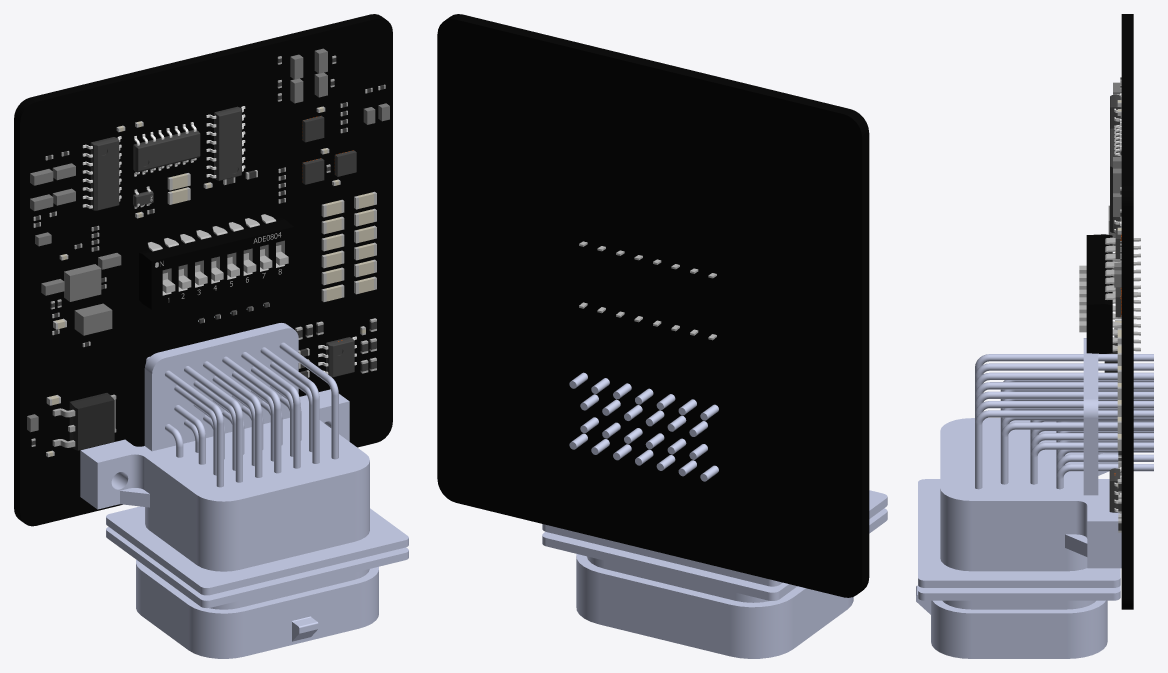
Rendered from BSPD_glb.glb.
3 renders of one model, left to right at view 1: azimuth 30°, elevation 25°; view 2: azimuth 150°, elevation 25°; view 3: azimuth 270°, elevation 25°, orthographic. The views are drawn at different scales.
Parts seen in each view (by area): view 1: Board-Part-1-1-1, J1-1, Switch_TE_Connectivity_1825057-7_eec-1, SOIC-16akaD0016AakaM16A-1/M16A_ASM_24_ASM-1/BODY_M16A_17-1 (×3), L78M05ABDT-TR-1-1, 8451759392-1/Extruded-25-1, SOIC-8akaD0008AakaM08A-1/M08A_ASM_82_ASM-1/BODY_M08A_35-1, 8451754352-1/Extruded-14-1; view 2: Board-Part-1-1-1, J1-1, Switch_TE_Connectivity_1825057-7_eec-1; view 3: J1-1, Board-Part-1-1-1, Switch_TE_Connectivity_1825057-7_eec-1, SOIC-8akaD0008AakaM08A-1/M08A_ASM_82_ASM-1/BODY_M08A_35-1.
Part boxes in pixels (bbox=[...]): Board-Part-1-1-1: bbox=[14, 14, 392, 526]; J1-1: bbox=[80, 323, 408, 658]; Switch_TE_Connectivity_1825057-7_eec-1: bbox=[139, 214, 293, 309]; SOIC-16akaD0016AakaM16A-1/M16A_ASM_24_ASM-1/BODY_M16A_17-1 (×3): bbox=[90, 106, 241, 210]; L78M05ABDT-TR-1-1: bbox=[52, 393, 116, 450]; 8451759392-1/Extruded-25-1: bbox=[64, 264, 101, 301]; SOIC-8akaD0008AakaM08A-1/M08A_ASM_82_ASM-1/BODY_M08A_35-1: bbox=[326, 337, 354, 377]; 8451754352-1/Extruded-14-1: bbox=[74, 303, 112, 335]; Board-Part-1-1-1: bbox=[437, 14, 869, 597]; J1-1: bbox=[542, 372, 887, 658]; Switch_TE_Connectivity_1825057-7_eec-1: bbox=[579, 241, 716, 340]; J1-1: bbox=[916, 338, 1153, 658]; Board-Part-1-1-1: bbox=[1121, 14, 1133, 609]; Switch_TE_Connectivity_1825057-7_eec-1: bbox=[1079, 234, 1140, 353]; SOIC-8akaD0008AakaM08A-1/M08A_ASM_82_ASM-1/BODY_M08A_35-1: bbox=[1109, 468, 1120, 512].
Size of the model in its own units: 0.0584 by 0.0768 by 0.0322.
